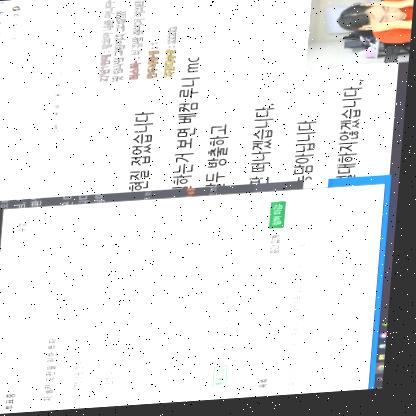streamer: (336, 0, 415, 52)
